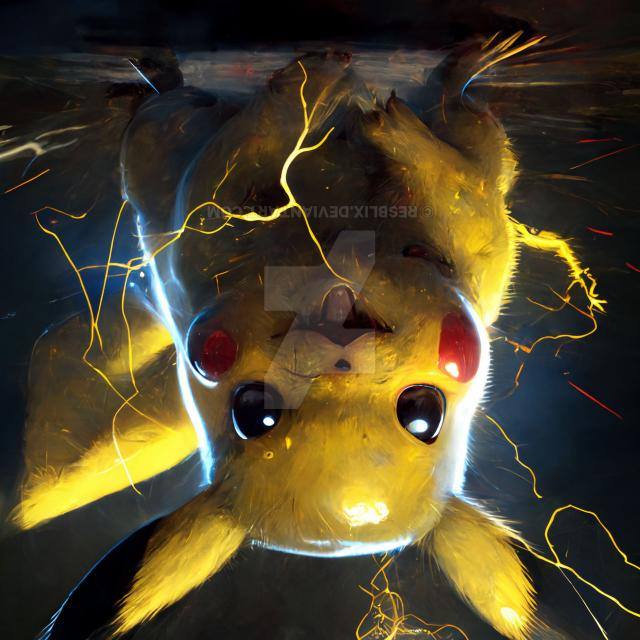Pikachu: (46, 44, 579, 628)
